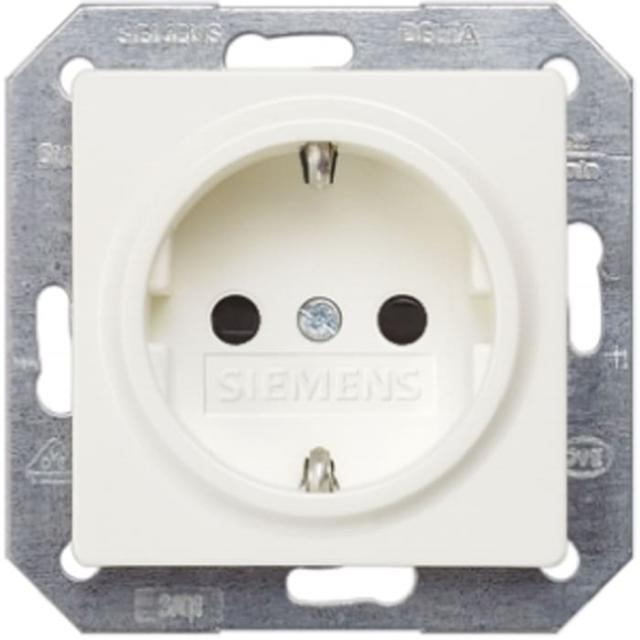typeb: (101, 86, 560, 574)
